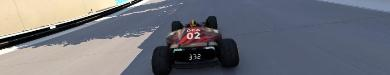Car: (150, 15, 239, 74)
obstacles-Borders: (0, 0, 149, 51)
